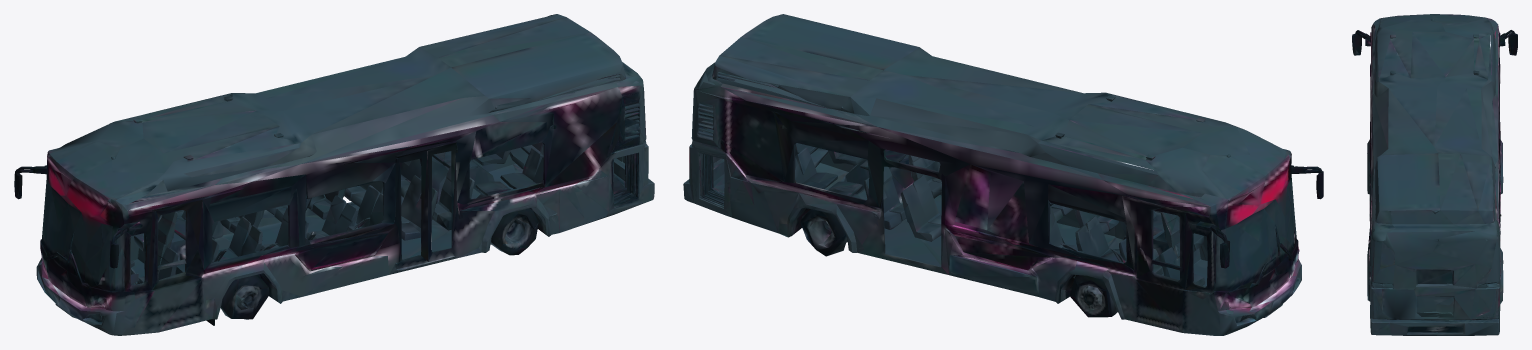
Rendered from mx_veh_bus.glb.
The picture shows the model from 3 angles, left to right: view 1: azimuth 30°, elevation 25°; view 2: azimuth 150°, elevation 25°; view 3: azimuth 270°, elevation 25°; orthographic projection. The views are drawn at different scales.
Bounding box in the file's own units: 1.9 × 0.5514 × 0.5982.
Materials: 1 (1 with a texture image).
